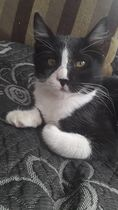cat: (12, 7, 117, 168)
